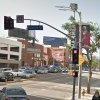Traffic light: (3, 13, 20, 42)
